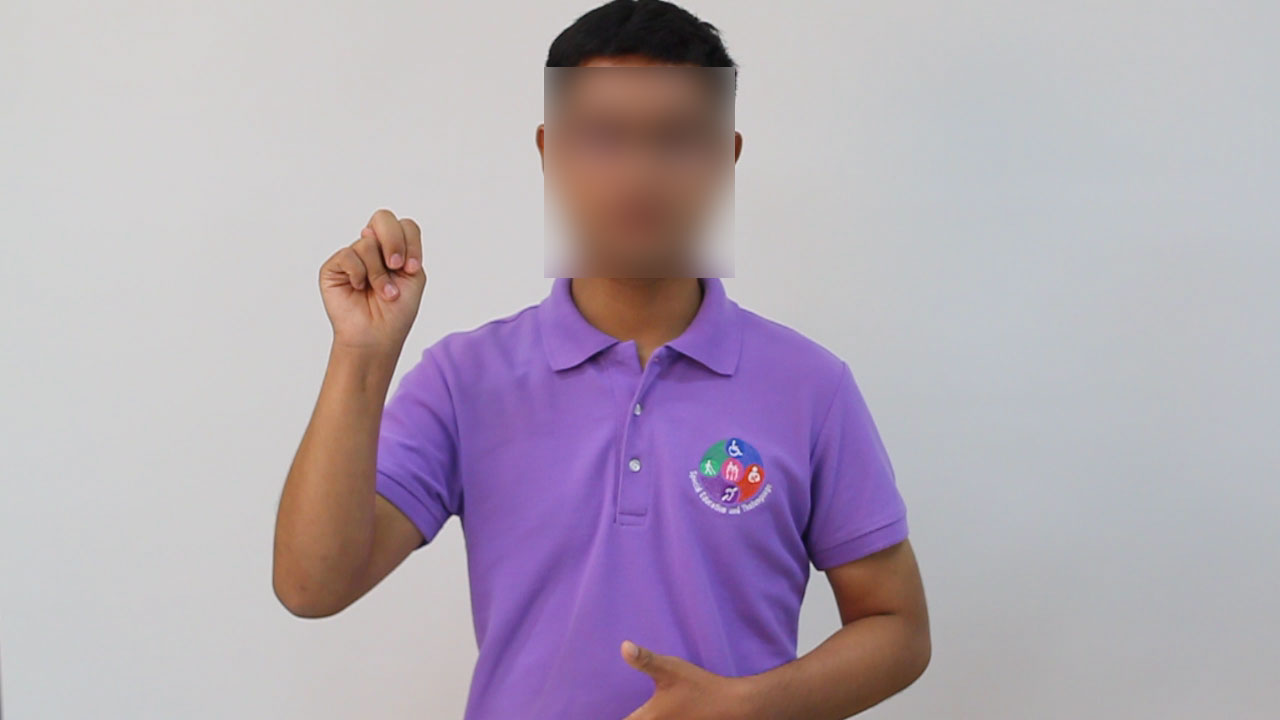nor: (309, 199, 441, 357)
